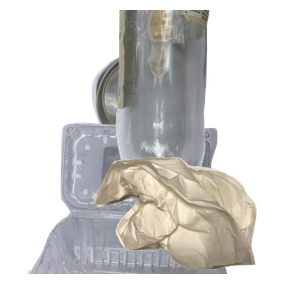glass: (113, 10, 300, 190)
metal: (89, 48, 276, 192)
plastic: (25, 120, 245, 300)
trash: (90, 155, 300, 300)
